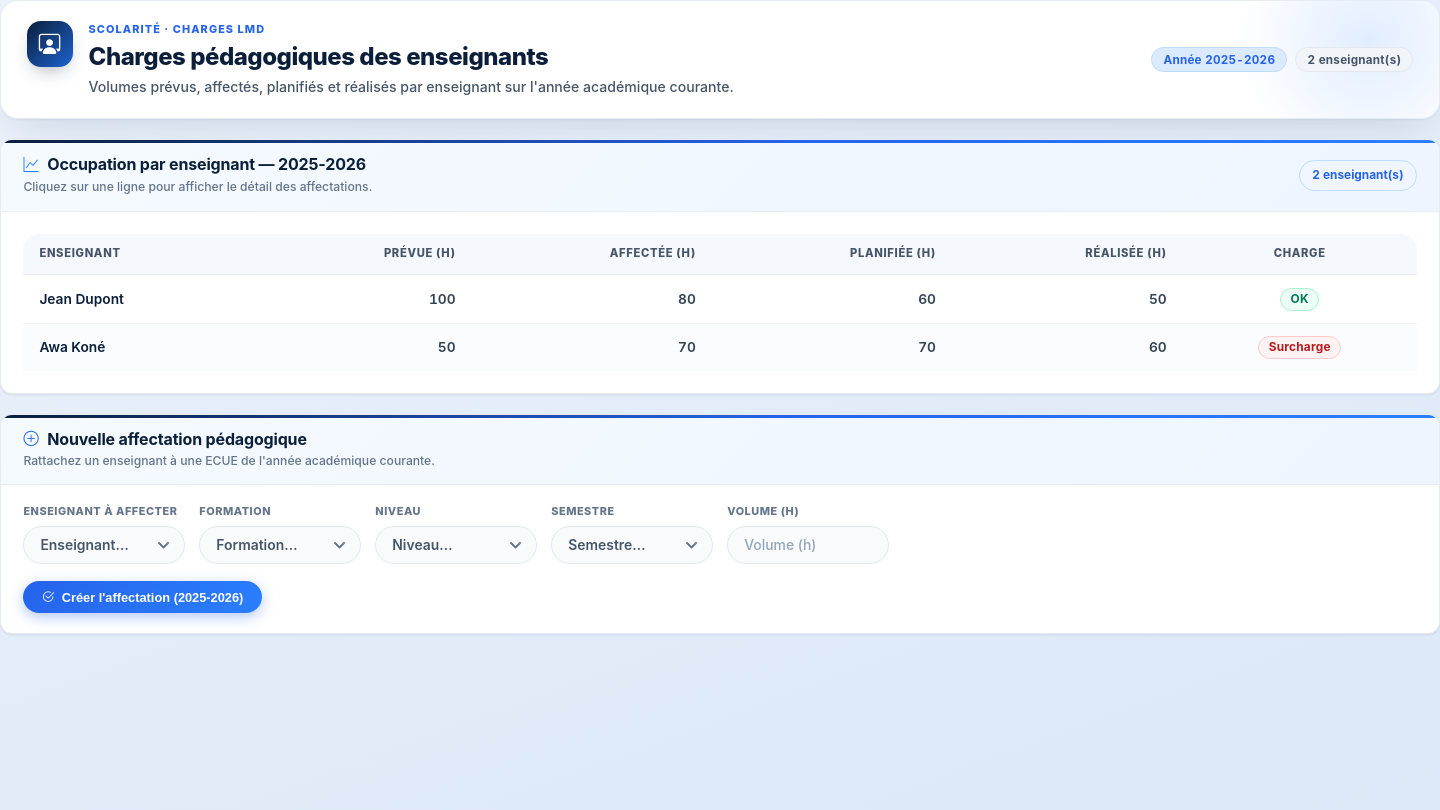
Test: pages/scolarite/ChargesEnseignants.jsx — détail enseignant (LOT 33) › notifie l'échec du chargement de la charge sans afficher de carte
Click the row "Jean Dupont 100 80 60 50 OK".
click(720, 299)  # box x1=23 y1=275 x2=1417 y2=324
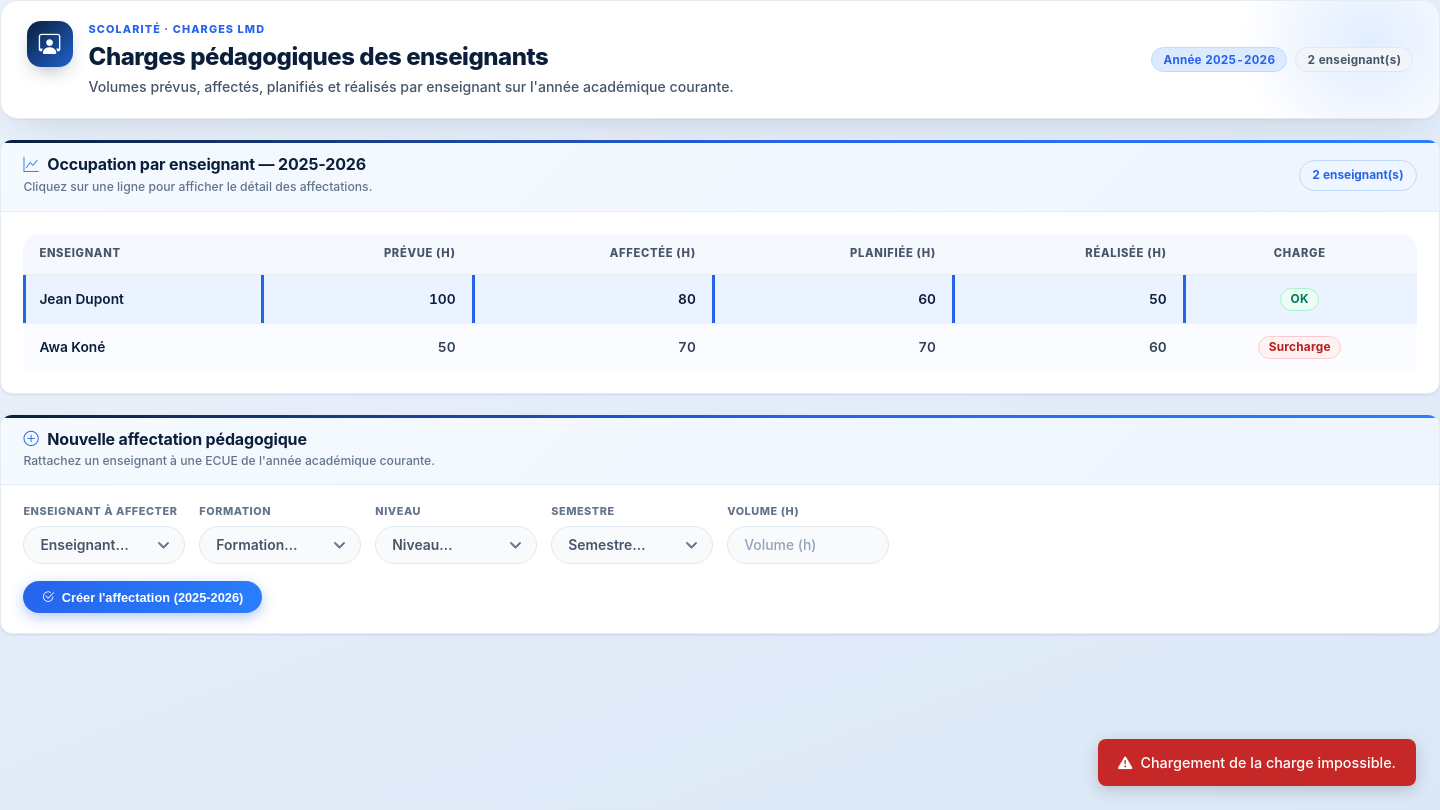
Expected: the text "Chargement de la charge impossible." is shown, x1=1098 y1=739 x2=1416 y2=786
